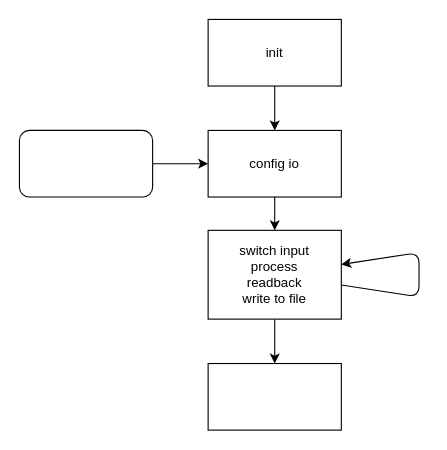
Some shapes in this 447 by 450 pixel diagram are drawn without their labels. The shapes that lost their labels are listed below. From the top down, each one's centre as x and y in pixels, then its label:
the point at 85,163: config
the point at 274,396: cleanup
